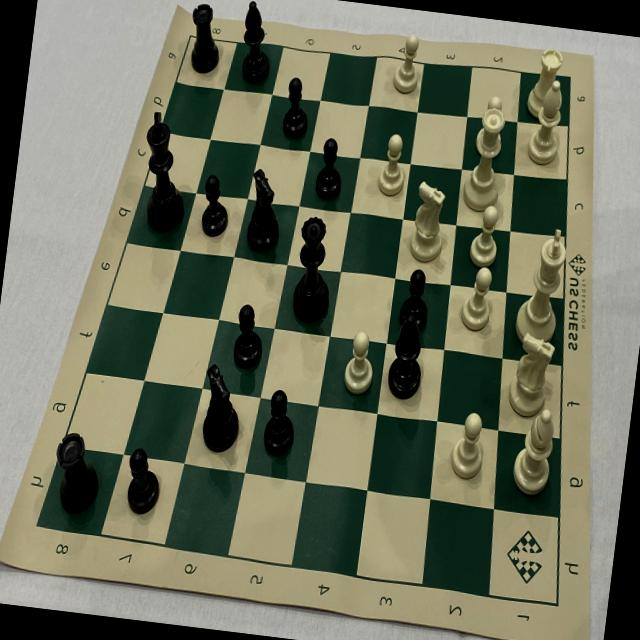black-bishop: (382, 312, 430, 406), (234, 0, 279, 87)
black-king: (132, 109, 196, 238)
black-knight: (192, 357, 248, 458), (242, 164, 290, 255)
black-pawn: (120, 444, 168, 520), (259, 386, 301, 460), (229, 302, 268, 374), (196, 172, 234, 240), (276, 74, 314, 142), (311, 134, 348, 202), (396, 266, 434, 332)
black-queen: (286, 212, 340, 328)
black-rook: (46, 427, 108, 520), (183, 0, 225, 77)
white-bishop: (508, 405, 560, 497), (521, 79, 574, 169)
white-king: (512, 222, 572, 348)
white-knight: (503, 328, 560, 421), (402, 178, 451, 266)
white-pawn: (446, 407, 493, 484), (457, 265, 500, 335), (372, 131, 412, 203), (341, 328, 380, 400), (389, 28, 427, 99), (466, 202, 505, 270), (472, 92, 509, 162)
white-queen: (458, 105, 508, 215)
white-rook: (520, 38, 570, 124)
